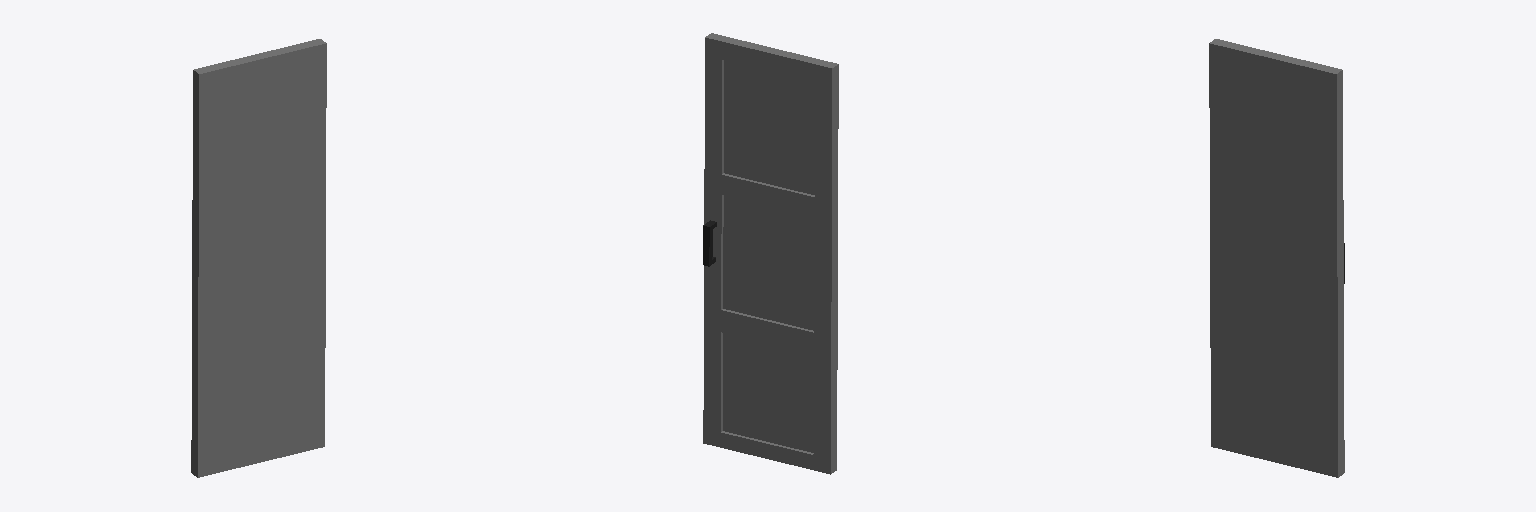
The model's file is PantryDoporRight.obj.
The picture shows the model from 3 angles: view 1: azimuth 30°, elevation 25°; view 2: azimuth 150°, elevation 25°; view 3: azimuth 330°, elevation 25°; orthographic projection.
Visible parts, largest first — view 1: polySurface214 pantry_closet; view 2: polySurface214 pantry_closet; view 3: polySurface214 pantry_closet.
Part boxes in pixels (left/top/right/bottom): polySurface214 pantry_closet: left=191, top=39, right=326, bottom=477; polySurface214 pantry_closet: left=703, top=33, right=838, bottom=474; polySurface214 pantry_closet: left=1209, top=39, right=1344, bottom=477.
Size of the model in its own units: 17.18 by 52.17 by 3.3.